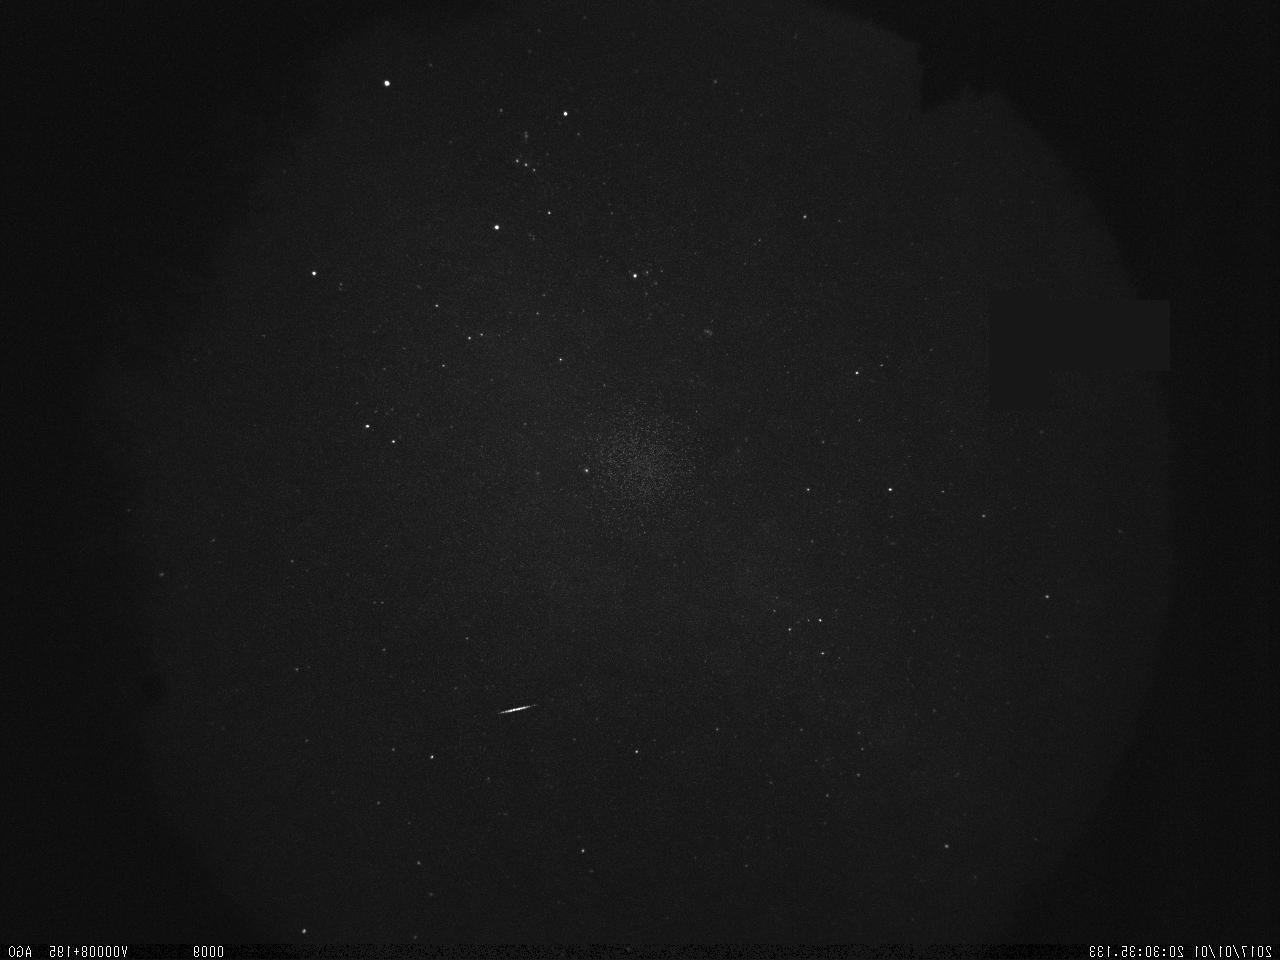meteor: (486, 695, 544, 724)
